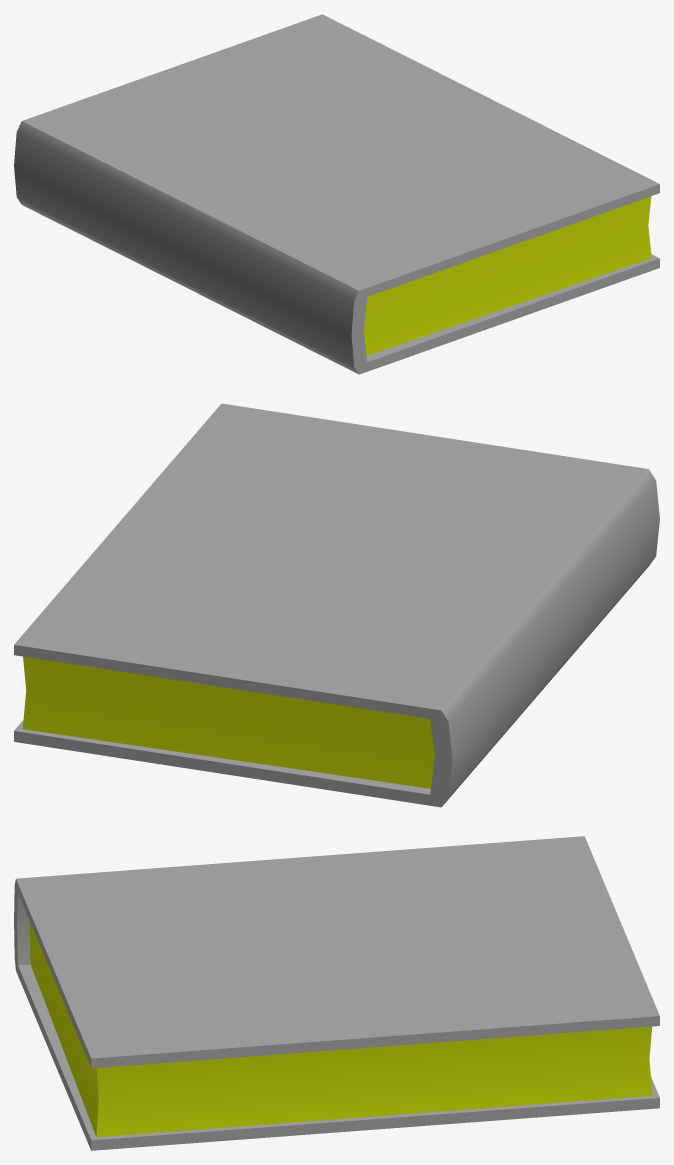
Rendered from book_stack_01_asset.fbx.
The picture shows the model from 3 angles, top to bottom: view 1: azimuth 30°, elevation 25°; view 2: azimuth 150°, elevation 25°; view 3: azimuth 270°, elevation 25°; orthographic projection. The views are drawn at different scales.
Visible parts, largest first — view 1: book_stack_01_asset; view 2: book_stack_01_asset; view 3: book_stack_01_asset.
Boxes of the visible parts, x1=… form: book_stack_01_asset: x1=14, y1=14, x2=659, y2=374; book_stack_01_asset: x1=14, y1=403, x2=659, y2=807; book_stack_01_asset: x1=14, y1=836, x2=659, y2=1150.
Size of the model in its own units: 0.544 by 0.1031 by 0.6541.
